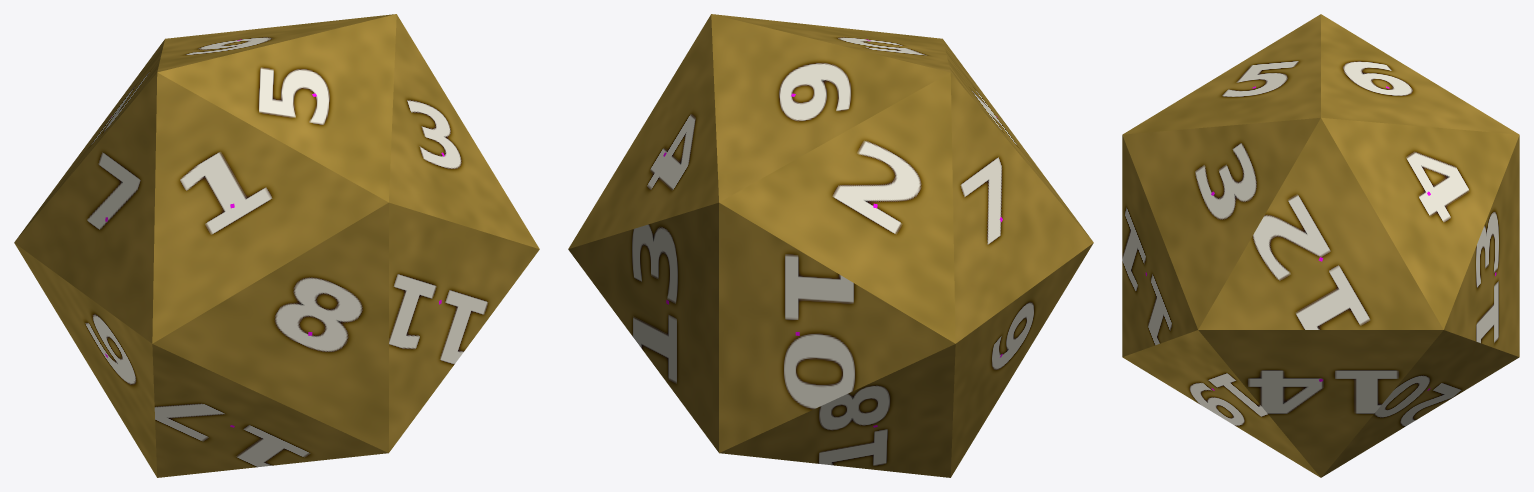
The model's file is d20_with_face_nodes_CC0.glb.
3 views of the same model, side by side, from view 1: azimuth 30°, elevation 25°; view 2: azimuth 150°, elevation 25°; view 3: azimuth 270°, elevation 25° (orthographic). The views are drawn at different scales.
Visible parts, largest first — view 1: D20; view 2: D20; view 3: D20.
Boxes of the visible parts, x1=… form: D20: x1=14, y1=14, x2=539, y2=477; D20: x1=568, y1=14, x2=1093, y2=477; D20: x1=1122, y1=14, x2=1519, y2=477.
Bounding box in the file's own units: 0.8507 × 0.8507 × 0.8507.
Materials: 2 (1 with a texture image).
